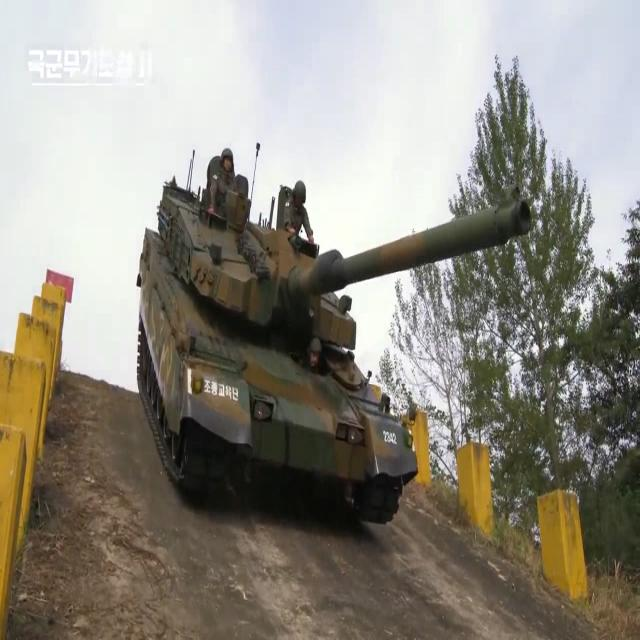korea tank: (134, 140, 534, 526)
